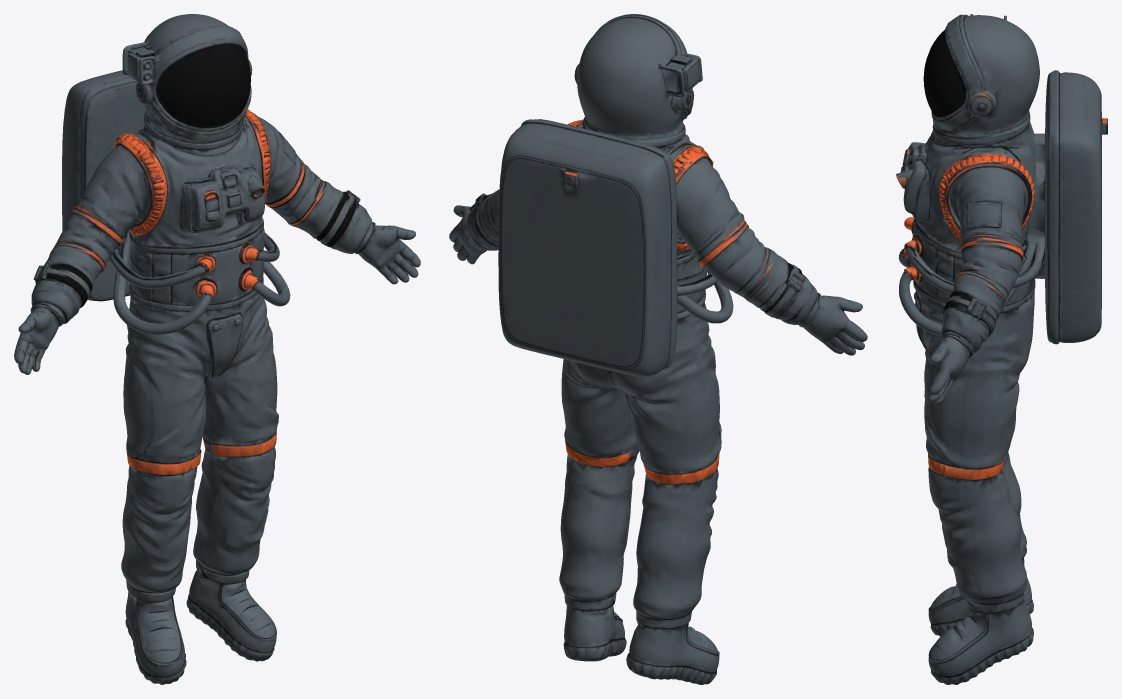
The model's file is saniexp.glb.
The picture shows the model from 3 angles, left to right: view 1: azimuth 30°, elevation 25°; view 2: azimuth 150°, elevation 25°; view 3: azimuth 270°, elevation 25°; orthographic projection. The views are drawn at different scales.
Visible parts, largest first — view 1: mesh_node; view 2: mesh_node; view 3: mesh_node.
Boxes of the visible parts, box(x1,y1,x2,y2) form: mesh_node: box(14, 14, 420, 684); mesh_node: box(449, 14, 867, 684); mesh_node: box(896, 14, 1107, 684).
Bounding box in the file's own units: 1.26 × 1.9 × 0.5722.
1 material, 1 textured.
